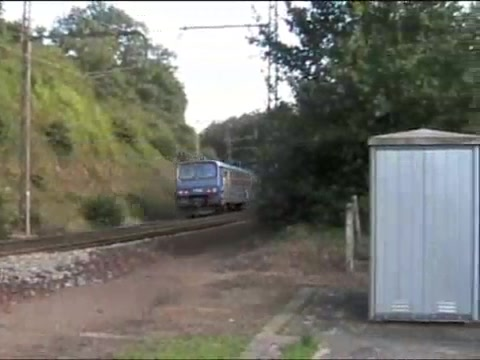train: (174, 155, 263, 216)
